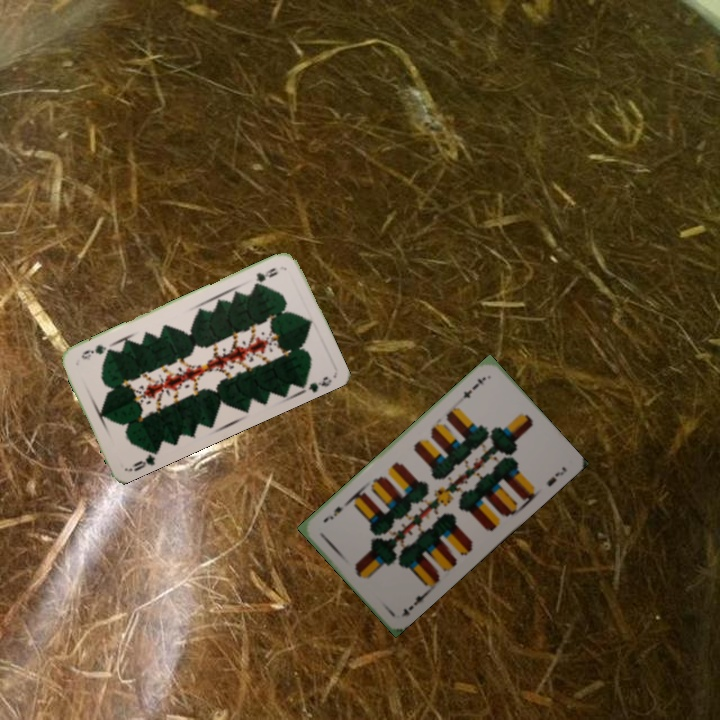E7: (397, 588, 430, 620), (459, 373, 488, 401)
G9: (125, 446, 161, 474), (250, 264, 281, 288)
